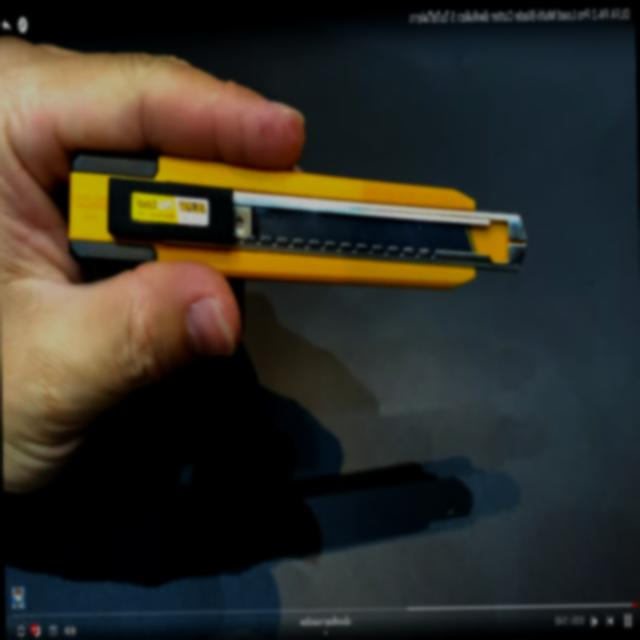cutter: (0, 103, 577, 438)
